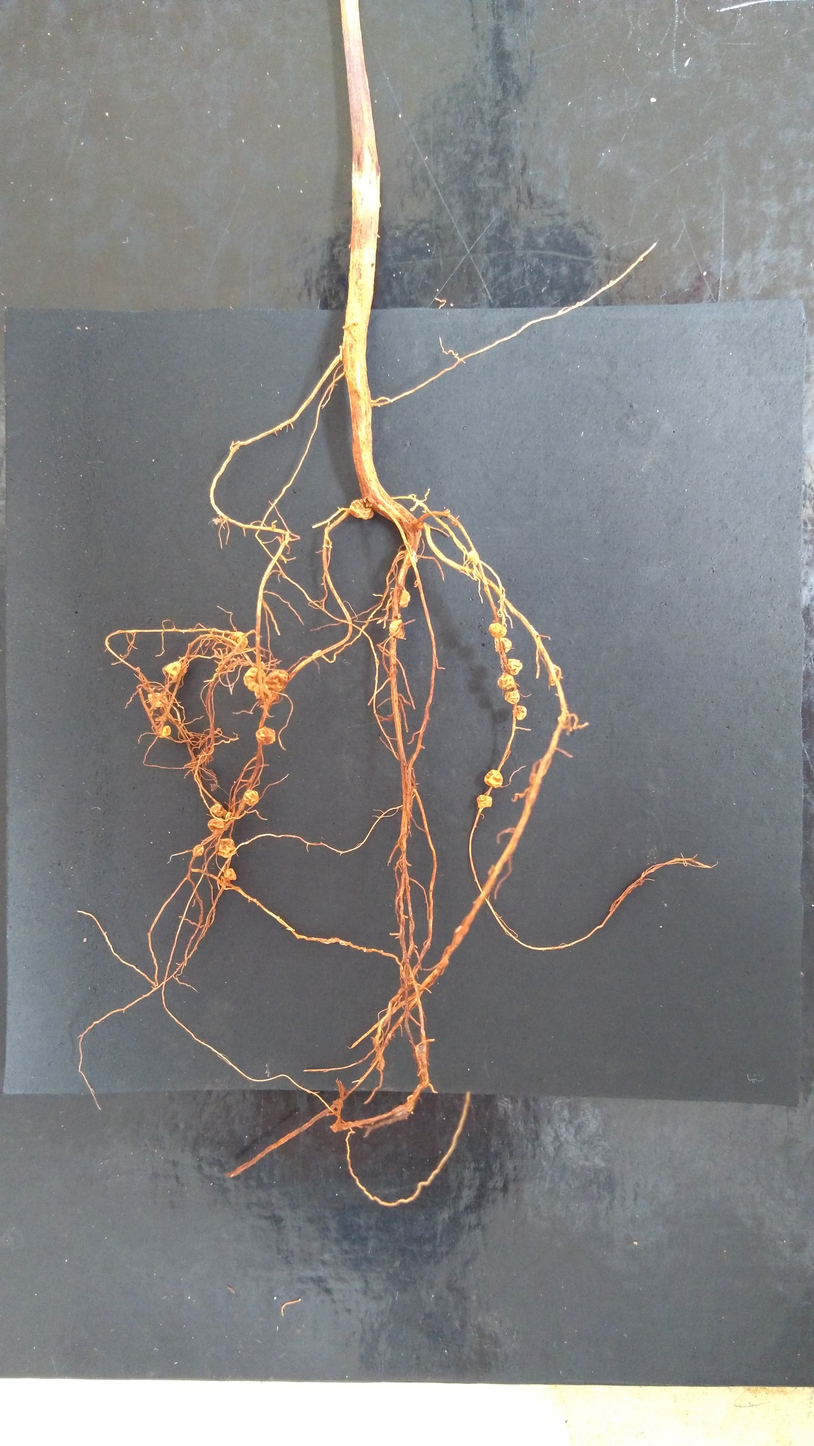nodule: (243, 667, 266, 691), (348, 499, 374, 520), (266, 670, 288, 691), (215, 838, 237, 858), (255, 726, 276, 745), (484, 769, 503, 788), (497, 672, 515, 690), (231, 632, 248, 651), (164, 662, 181, 681), (389, 619, 405, 639), (147, 692, 168, 707), (488, 623, 507, 638), (506, 658, 522, 675), (549, 664, 561, 686), (243, 789, 258, 806), (207, 818, 224, 832), (558, 711, 571, 729), (512, 705, 527, 720), (496, 638, 512, 652), (505, 689, 519, 704), (476, 795, 492, 808), (398, 590, 410, 607), (254, 684, 268, 698), (263, 692, 279, 704), (210, 804, 224, 817), (467, 550, 479, 565), (402, 970, 414, 985), (224, 868, 237, 880), (192, 844, 204, 857), (159, 725, 171, 738), (179, 664, 187, 676), (225, 812, 232, 824), (210, 783, 218, 791), (451, 518, 458, 526), (312, 650, 321, 656), (444, 509, 450, 514), (393, 669, 398, 674), (397, 613, 401, 619)
